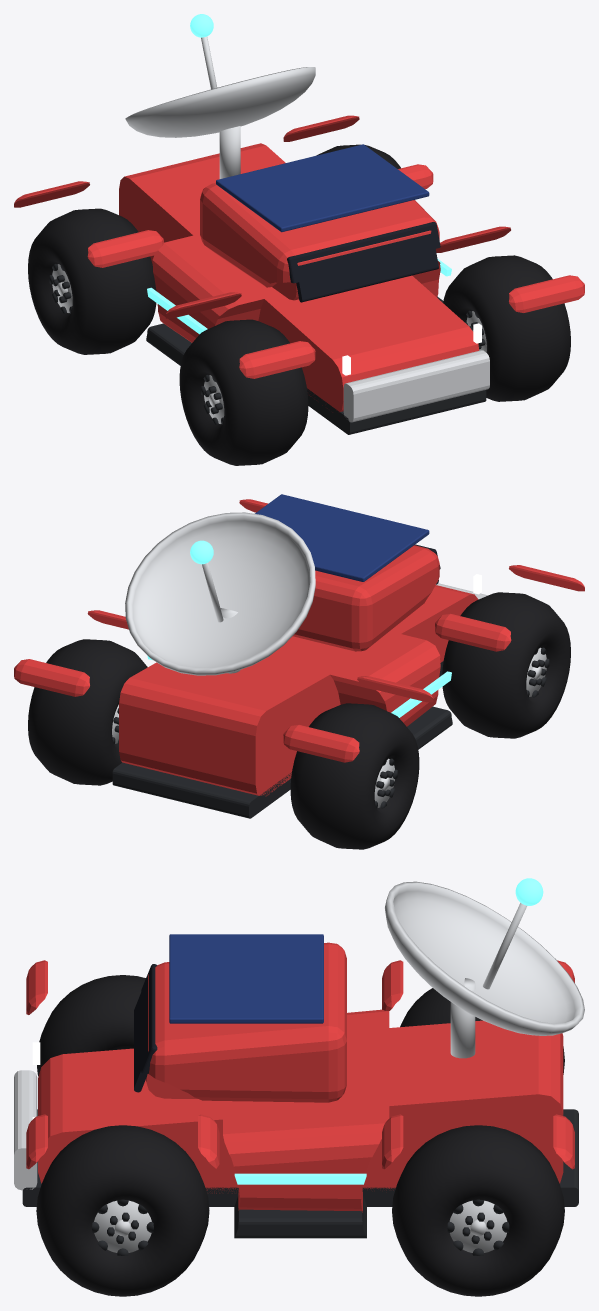
File: kart-satellite.glb
3 renders of one model, top to bottom at view 1: azimuth 30°, elevation 25°; view 2: azimuth 150°, elevation 25°; view 3: azimuth 270°, elevation 25°, orthographic. The views are drawn at different scales.
Visible parts, largest first — view 1: Hull.006, Wheel_FL.002, Wheel_RL.002, Wheel_FR.002, Box.026, Hull.007, Sphere, Box.025, Box.027, Box.024, Box.028, Box.032 (+3 smaller); view 2: Hull.006, Sphere, Wheel_RL.002, Wheel_FL.002, Wheel_RR.002, Hull.007, Box.026, Box.024, Box.029, Box.028, Box.033, Box.030 (+1 smaller); view 3: Hull.006, Wheel_FR.002, Wheel_RR.002, Hull.007, Sphere, Box.026, Box.024, Wheel_FL.002, Box.027, Box.025, Box.033, Box.032 (+7 smaller).
Part boxes in pixels (x1=…): Hull.006: x1=119, y1=143, x2=479, y2=412; Wheel_FL.002: x1=179, y1=319, x2=308, y2=465; Wheel_RL.002: x1=28, y1=208, x2=156, y2=354; Wheel_FR.002: x1=443, y1=255, x2=570, y2=401; Box.026: x1=216, y1=144, x2=429, y2=232; Hull.007: x1=200, y1=182, x2=439, y2=300; Sphere: x1=125, y1=67, x2=315, y2=137; Box.025: x1=287, y1=222, x2=440, y2=302; Box.027: x1=343, y1=350, x2=489, y2=422; Box.024: x1=146, y1=296, x2=486, y2=434; Box.028: x1=165, y1=292, x2=315, y2=378; Box.032: x1=436, y1=226, x2=584, y2=312; Hull.006: x1=119, y1=585, x2=478, y2=796; Sphere: x1=125, y1=512, x2=315, y2=675; Wheel_RL.002: x1=290, y1=703, x2=419, y2=849; Wheel_FL.002: x1=442, y1=592, x2=570, y2=738; Wheel_RR.002: x1=28, y1=639, x2=147, y2=785; Hull.007: x1=293, y1=545, x2=439, y2=651; Box.026: x1=255, y1=494, x2=429, y2=581; Box.024: x1=112, y1=661, x2=452, y2=818; Box.029: x1=283, y1=676, x2=433, y2=762; Box.028: x1=435, y1=565, x2=584, y2=651; Box.033: x1=14, y1=610, x2=128, y2=696; Box.030: x1=391, y1=671, x2=451, y2=717; Hull.006: x1=38, y1=1009, x2=563, y2=1212; Wheel_FR.002: x1=36, y1=1125, x2=209, y2=1296; Wheel_RR.002: x1=392, y1=1125, x2=564, y2=1296; Hull.007: x1=146, y1=942, x2=346, y2=1102; Sphere: x1=385, y1=881, x2=584, y2=1035; Box.026: x1=169, y1=934, x2=323, y2=1023; Box.024: x1=22, y1=1109, x2=578, y2=1238; Wheel_FL.002: x1=37, y1=975, x2=145, y2=1076; Box.027: x1=14, y1=1070, x2=37, y2=1190; Box.025: x1=134, y1=964, x2=157, y2=1092; Box.033: x1=382, y1=1114, x2=574, y2=1169; Box.032: x1=26, y1=1114, x2=219, y2=1169.
Bounding box in the file's own units: 3.02 × 2.39 × 3.69.
